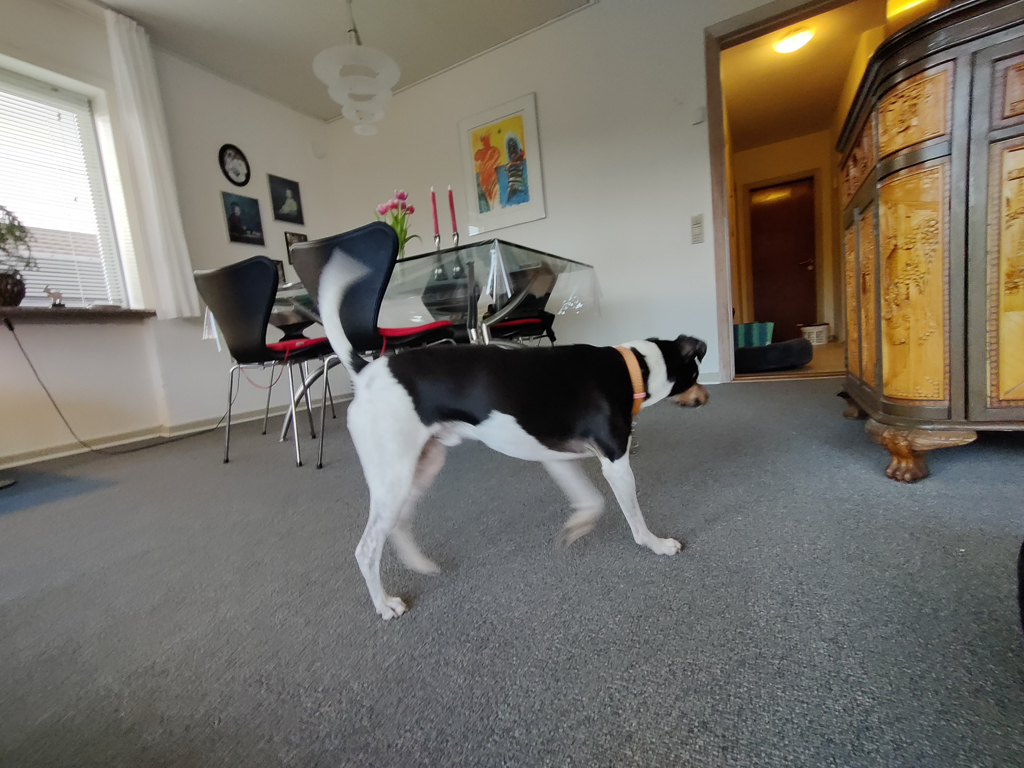Dog: (304, 245, 730, 639)
